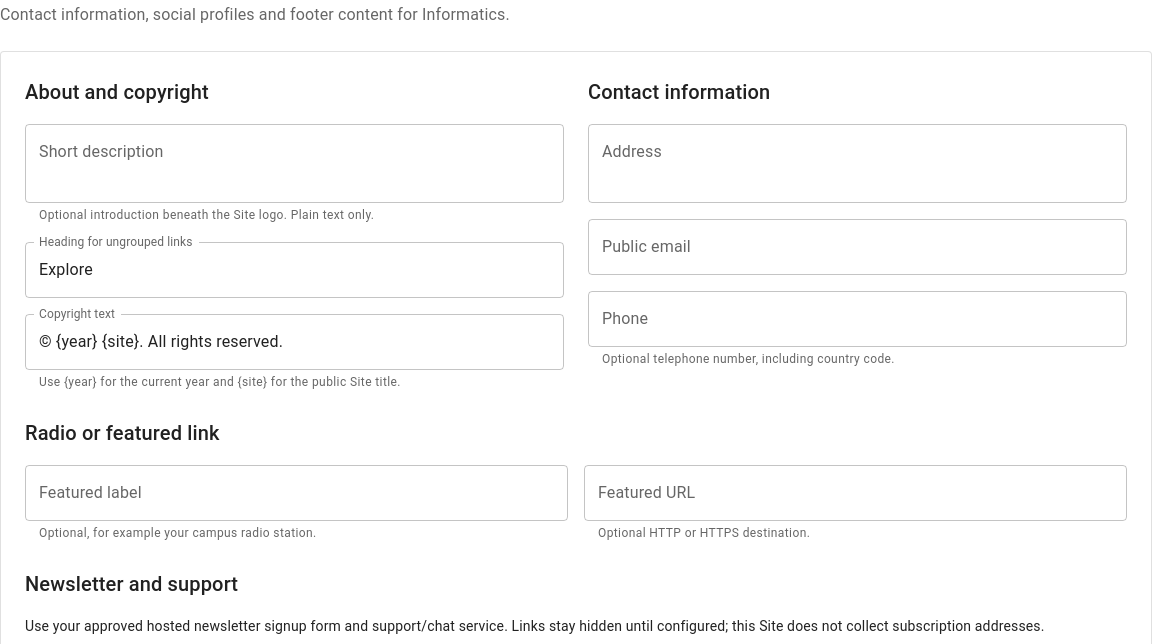
Test: preserves unsaved text after a rejected concurrent save
In the text box labelled "Short description": (294, 164) x1=39 y1=140 x2=550 y2=186, type "My unsaved introduction"
(page scrolled)
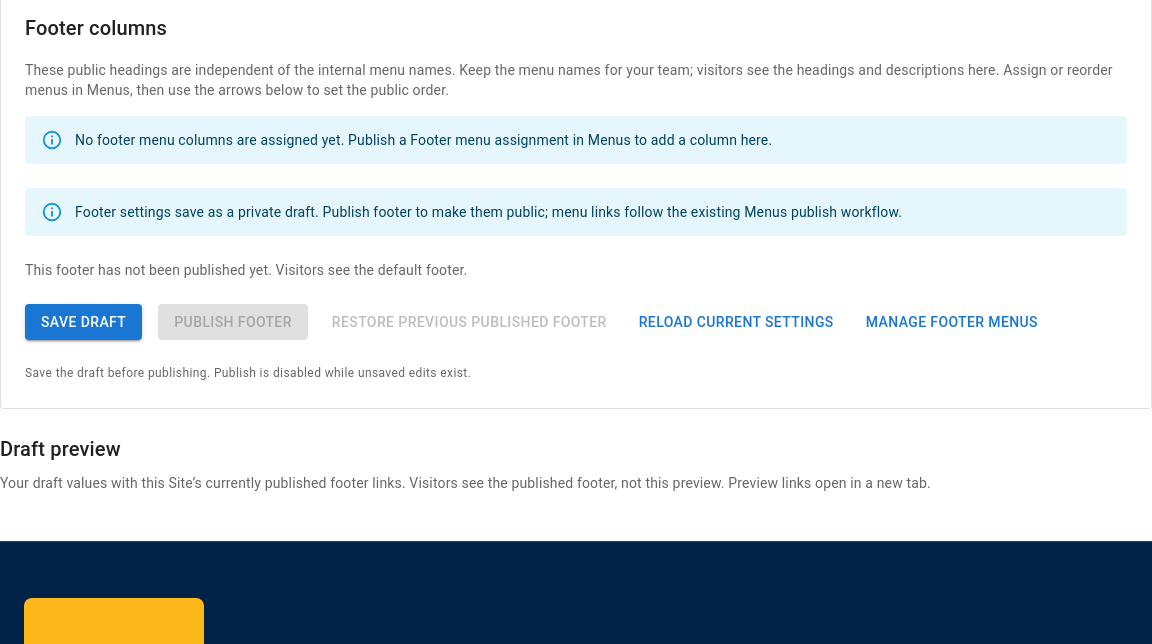
Click the button "Save draft": click(84, 322) x1=25 y1=304 x2=142 y2=340
(page scrolled)
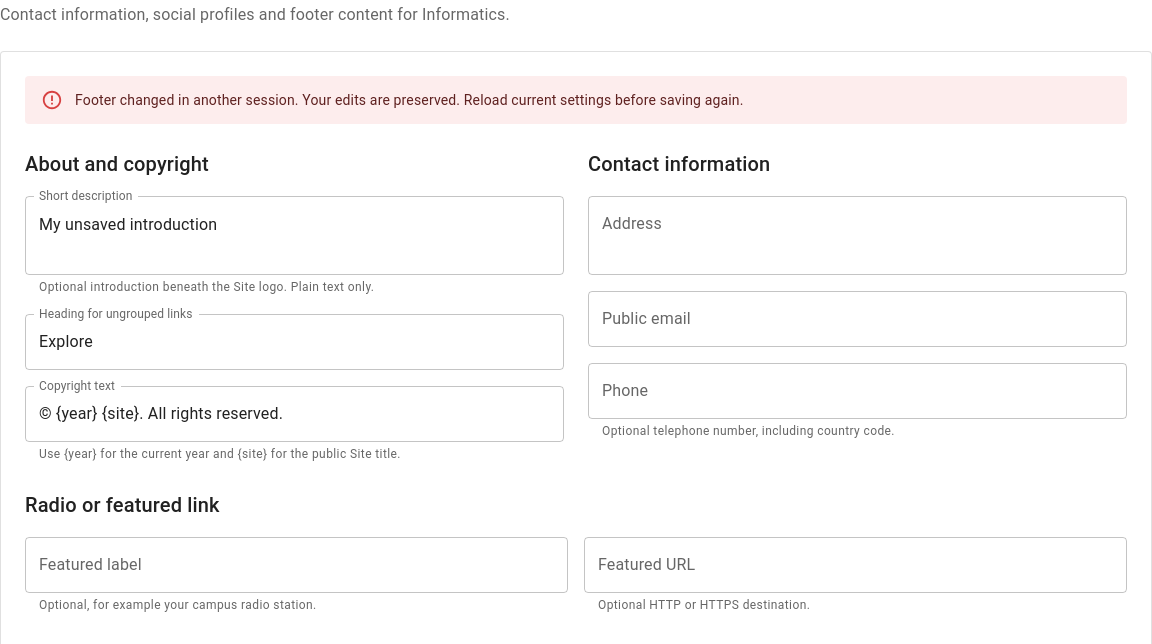
Expected: the text "Footer changed in another session" is shown, x1=75 y1=92 x2=744 y2=108
